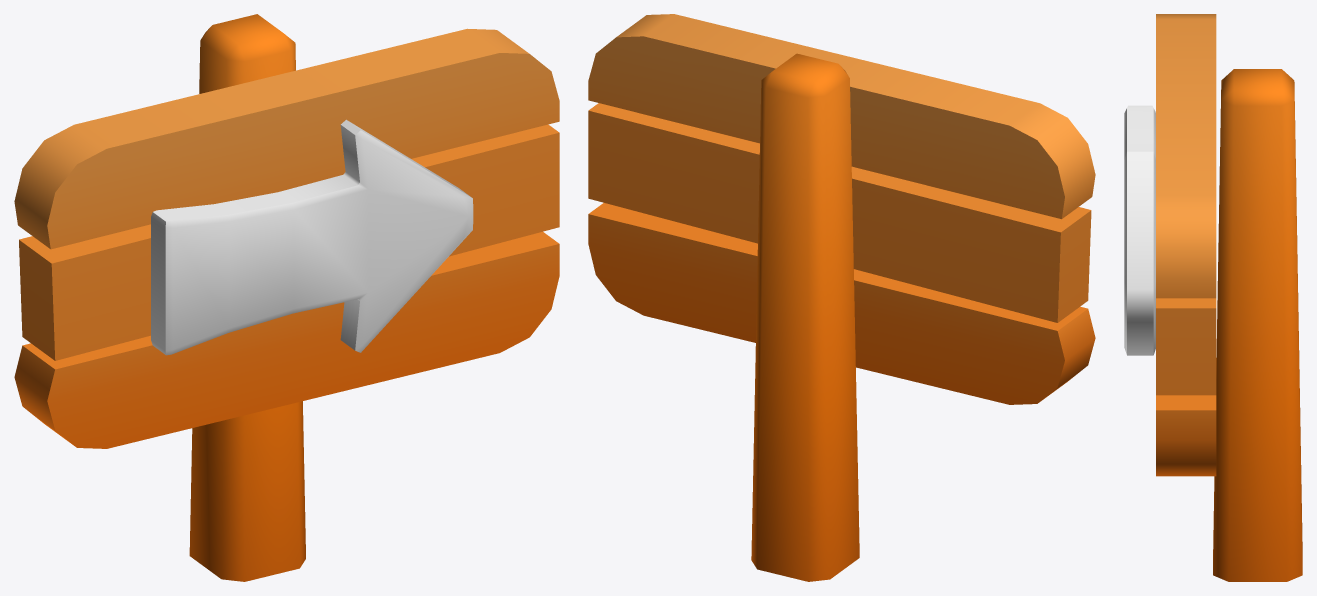
File: Prop_Wooden_Sign_01.fbx
The picture shows the model from 3 angles, left to right: view 1: azimuth 30°, elevation 25°; view 2: azimuth 150°, elevation 25°; view 3: azimuth 270°, elevation 25°; orthographic projection. The views are drawn at different scales.
Visible parts, largest first — view 1: Prop_Wooden_Sign_01; view 2: Prop_Wooden_Sign_01; view 3: Prop_Wooden_Sign_01.
Part boxes in pixels (left/top/right/bottom): Prop_Wooden_Sign_01: left=14, top=14, right=559, bottom=581; Prop_Wooden_Sign_01: left=588, top=14, right=1095, bottom=581; Prop_Wooden_Sign_01: left=1124, top=14, right=1302, bottom=581.
Bounding box in the file's own units: 90.11 × 88.8 × 29.65.
